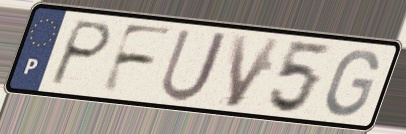5: (266, 38, 337, 115)
F: (97, 21, 179, 96)
G: (322, 48, 381, 119)
P: (45, 17, 116, 88)
U: (157, 26, 232, 105)
V: (224, 32, 286, 111)
